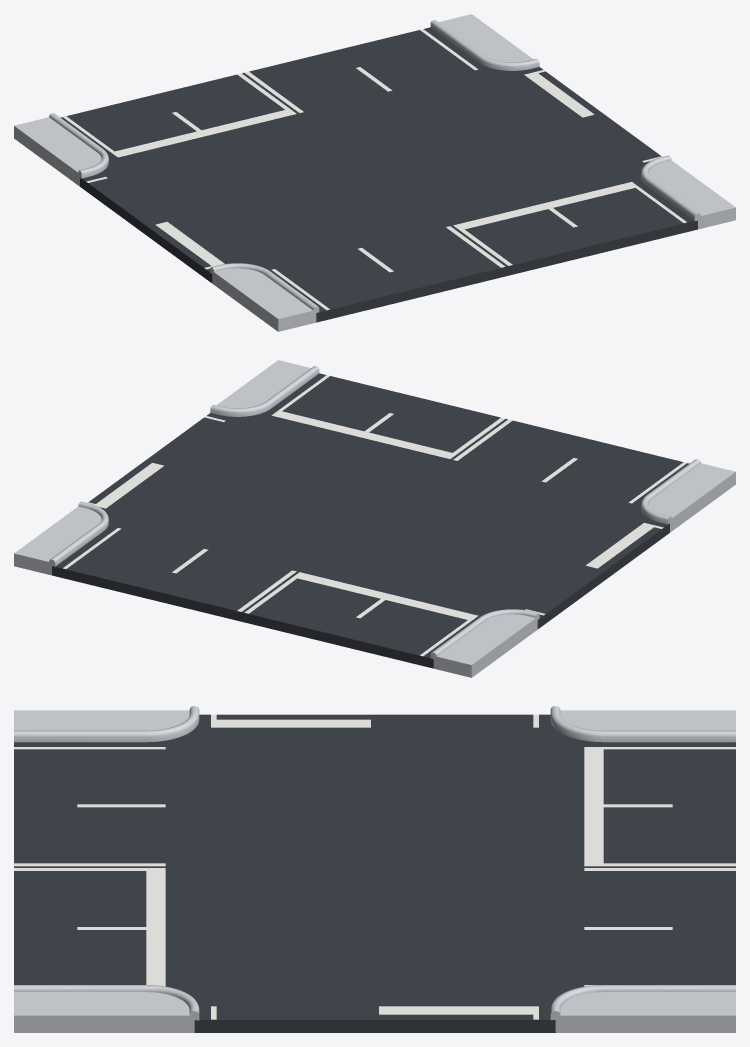
File: avenida_cruzamento_rua.glb
3 renders of one model, top to bottom at view 1: azimuth 30°, elevation 25°; view 2: azimuth 150°, elevation 25°; view 3: azimuth 270°, elevation 25°, orthographic. The views are drawn at different scales.
Visible parts, largest first — view 1: avenida_cruzamento_rua; view 2: avenida_cruzamento_rua; view 3: avenida_cruzamento_rua.
Boxes of the visible parts, x1,y1,x2,y2 form: avenida_cruzamento_rua: (14, 14, 735, 331); avenida_cruzamento_rua: (14, 360, 735, 677); avenida_cruzamento_rua: (14, 706, 735, 1032).
Size of the model in its own units: 15 by 0.5 by 15.
1 material, 1 textured.
